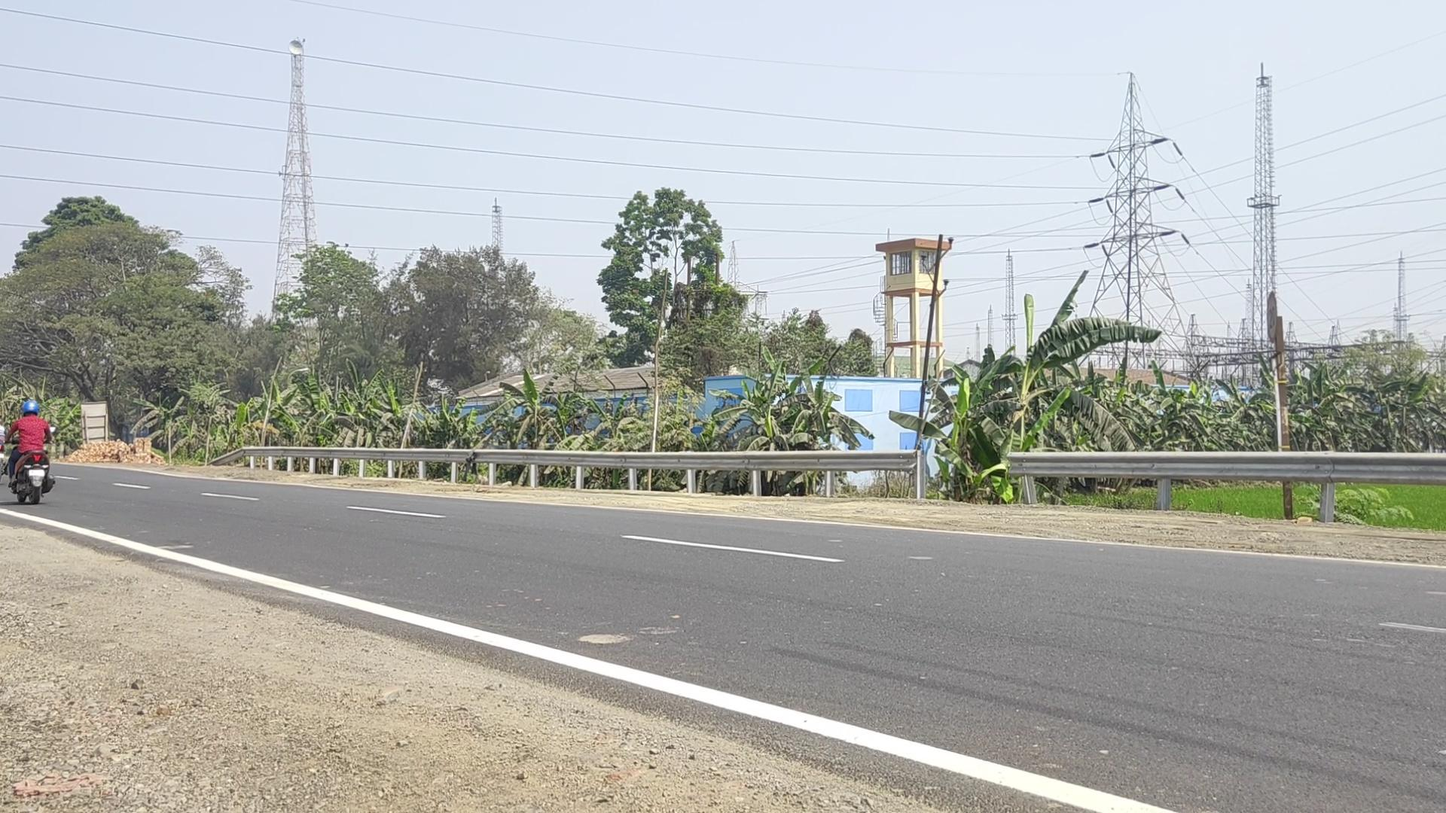bike: (3, 400, 56, 505)
